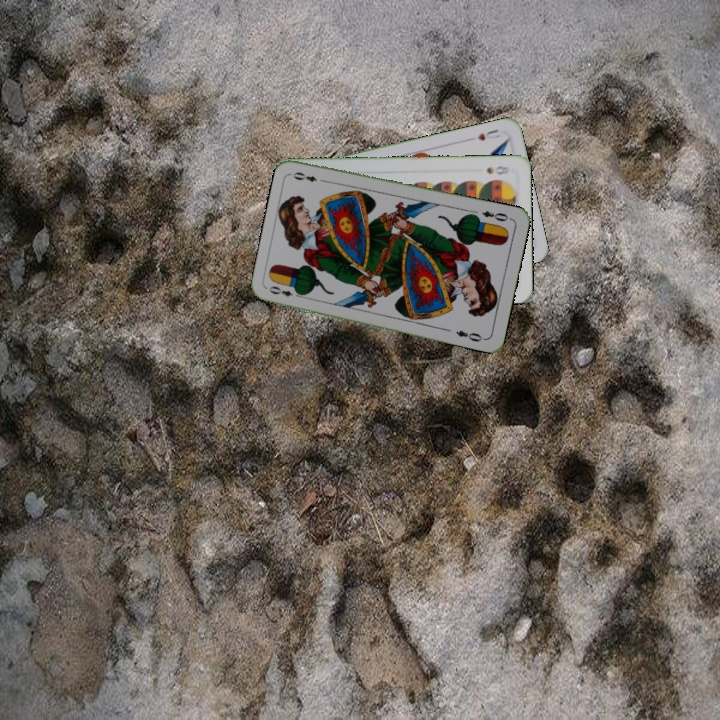EO: (265, 282, 305, 300), (478, 206, 514, 224)
HU: (473, 125, 502, 143)
S8: (482, 162, 511, 177)
